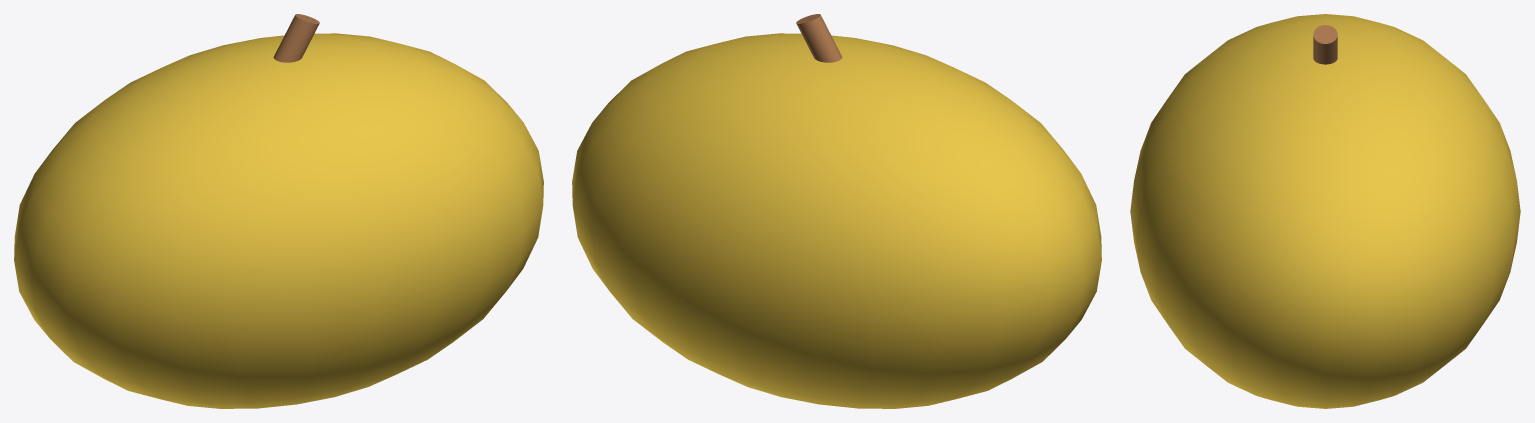
File: wp-citron.glb
3 views of the same model, side by side, from view 1: azimuth 30°, elevation 25°; view 2: azimuth 150°, elevation 25°; view 3: azimuth 270°, elevation 25° (orthographic). The views are drawn at different scales.
Parts seen in each view (by area): view 1: wp-citron; view 2: wp-citron; view 3: wp-citron.
Part boxes in pixels (x1,y1,x2,y2): wp-citron: [14, 14, 543, 408]; wp-citron: [572, 14, 1101, 408]; wp-citron: [1130, 14, 1520, 408].
Bounding box in the file's own units: 0.1 × 0.07 × 0.07.
